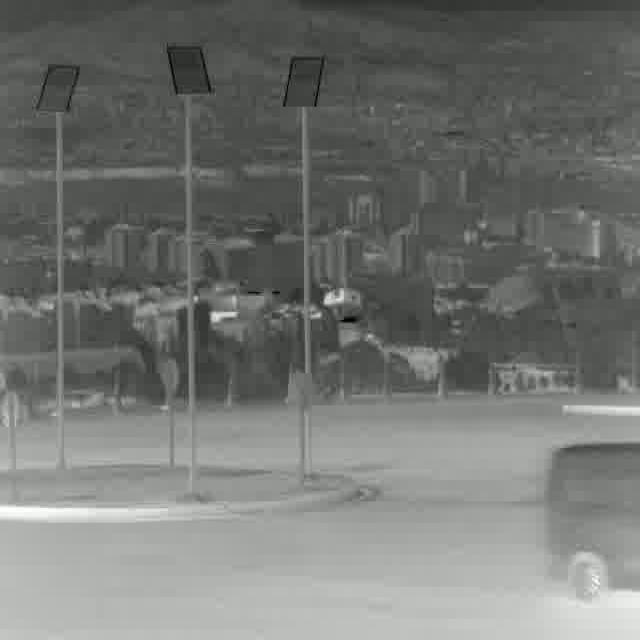Car: (543, 444, 640, 596)
